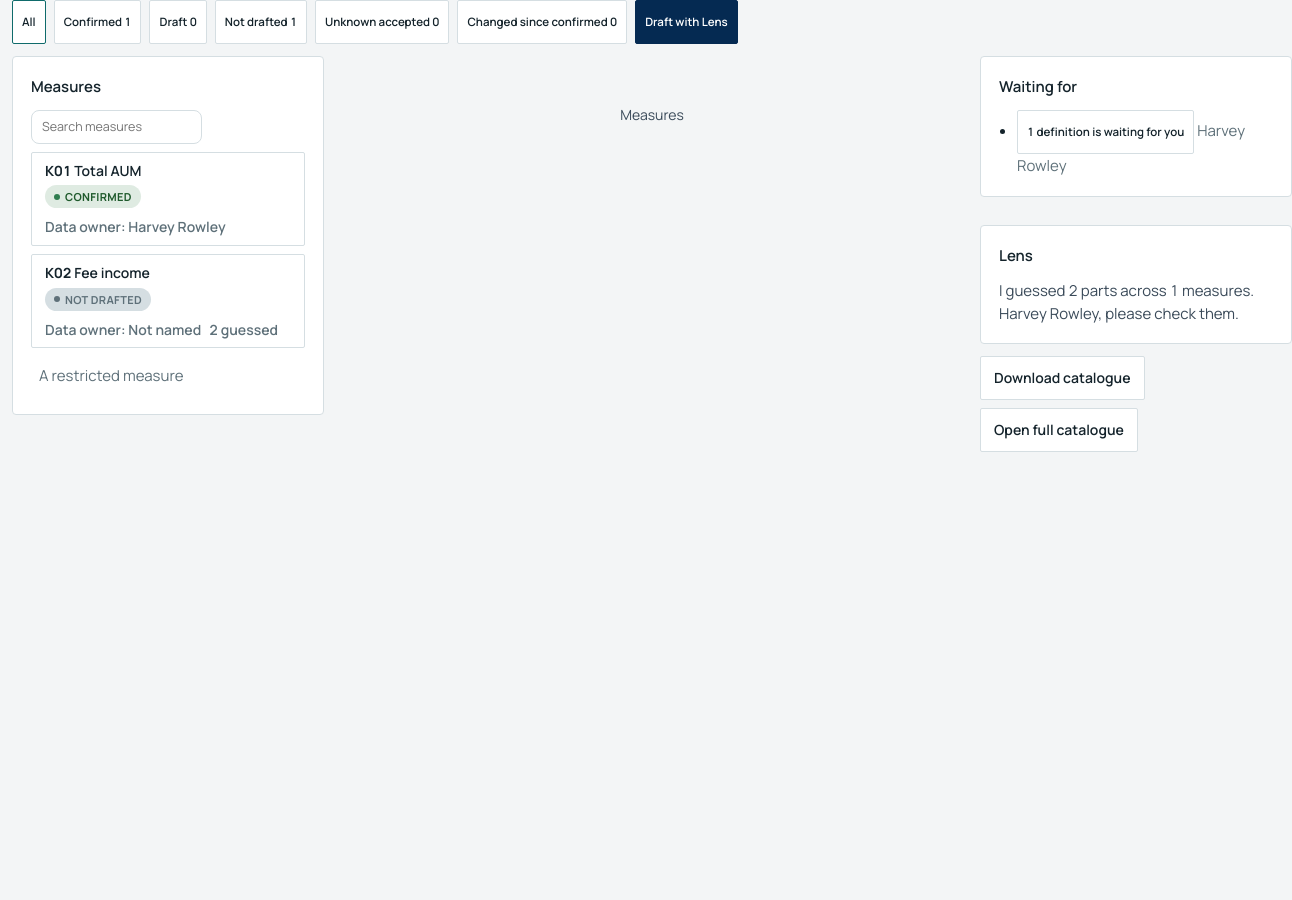
Test: the Catalogue tab: five states › opens an entry: business definition, owners with Not named, the version trail
Click the button "K01 Total AUM Confirmed Data owner: Harvey Rowley". click: (108, 170)
box: [31,152,305,246]
(page scrolled)
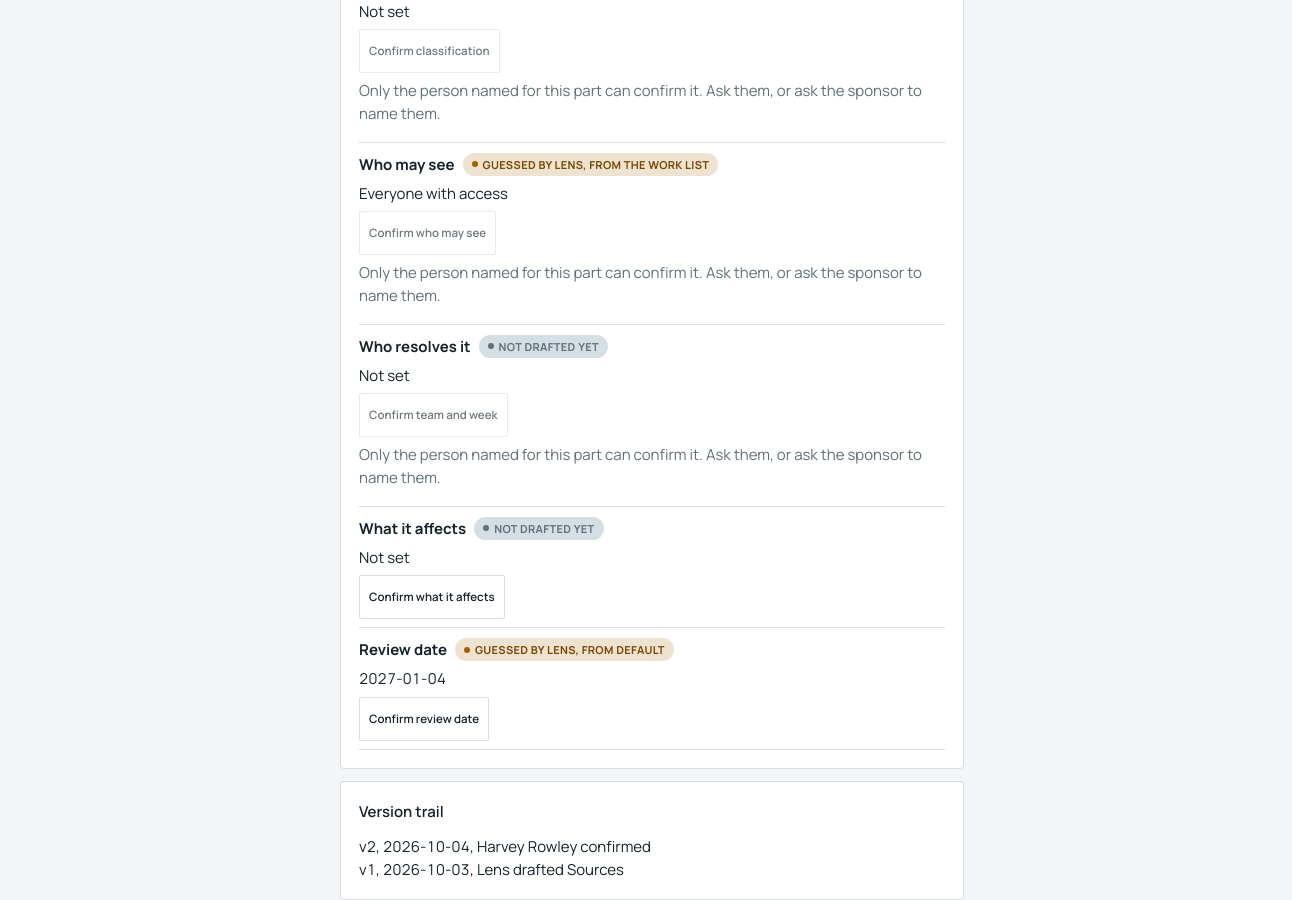
Now the list item "v2, 2026-10-04, Harvey Rowley confirmed" is shown, box [359,836,651,857]
